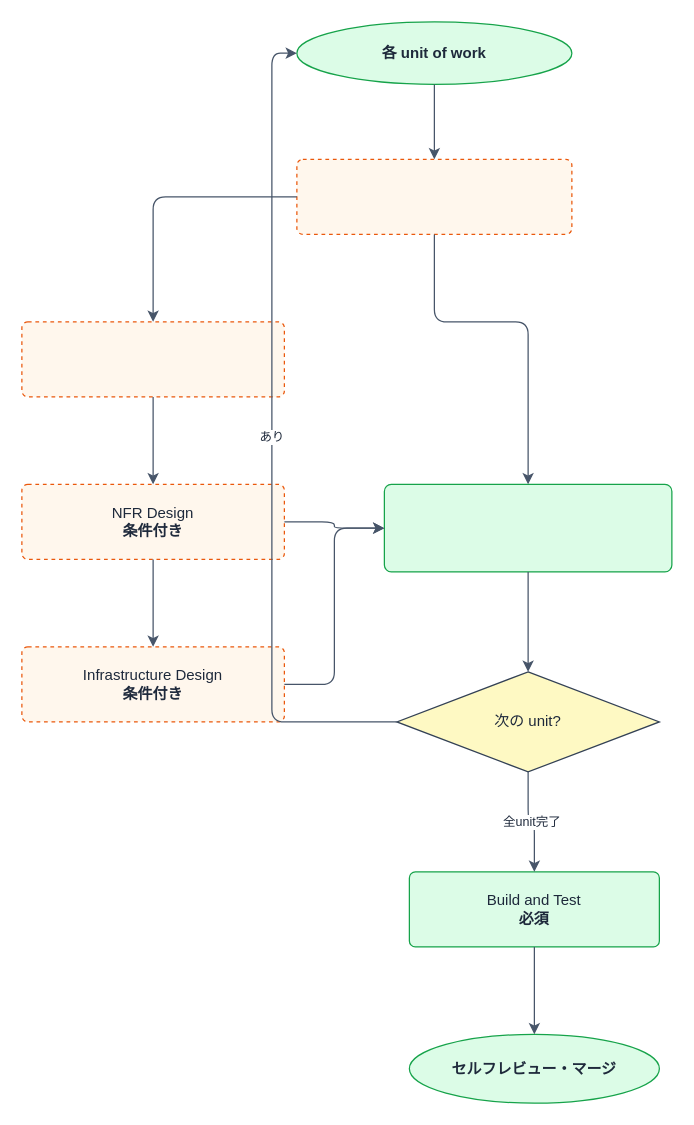
Image size: 694x1125. Some labels were removed from this diagram. The centre of each missing label's shape, as x and y in pixels:
Code Generation 必須（計画→生成の2段階）: the point at 527,527
Functional Design 条件付き: the point at 434,196
NFR Requirements 条件付き: the point at 152,359
